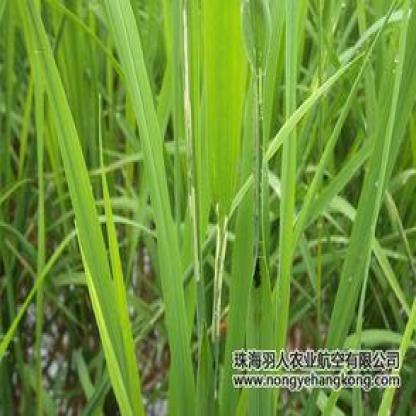leaf-folder: (247, 64, 276, 312)
